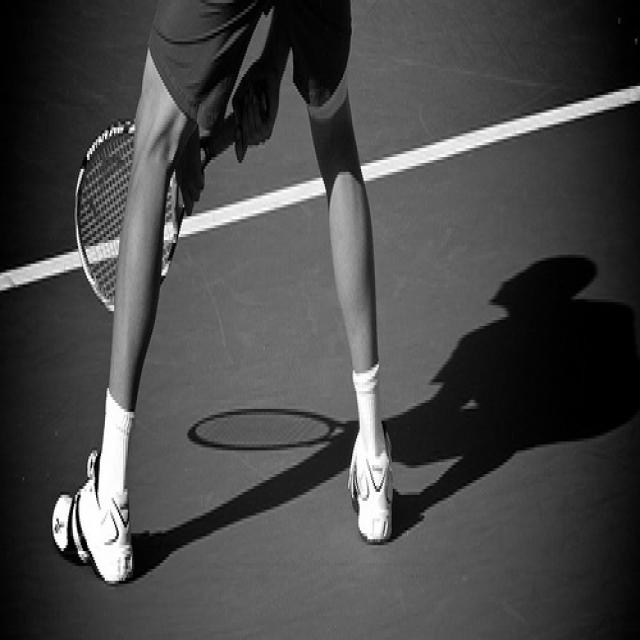monkey: (51, 0, 392, 588)
